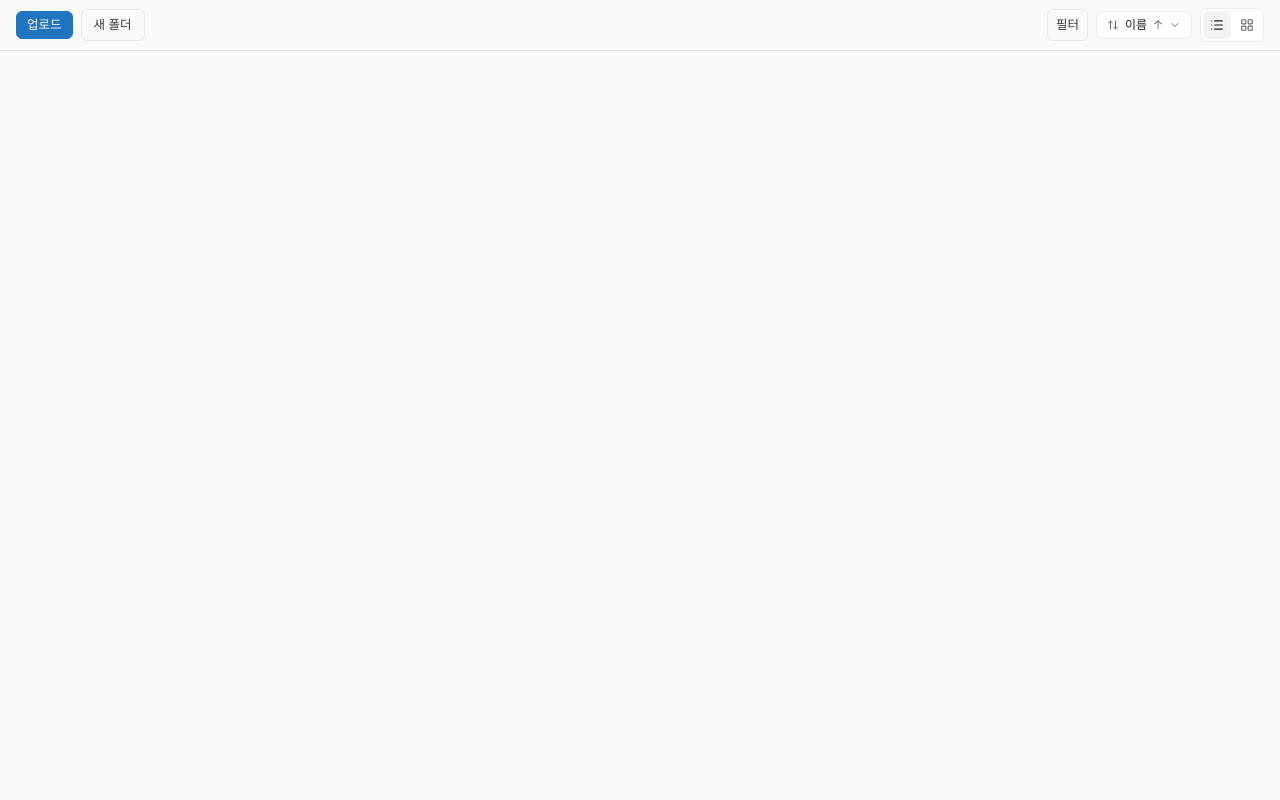
FolderToolbar › 취소로 다이얼로그 닫힌다
Click the button "새 폴더" at (112, 25), box [80,9,144,41]
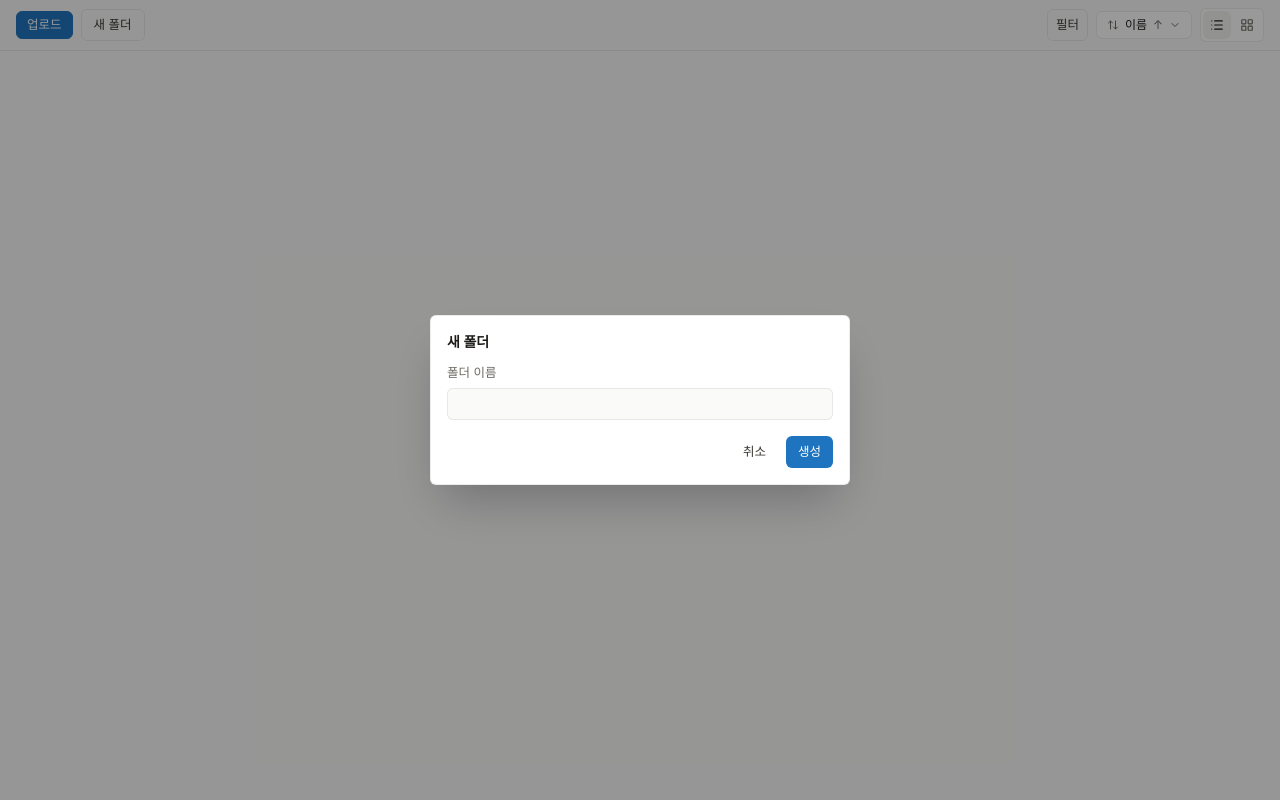
Click the button "취소" at (754, 452), box [731,436,778,468]
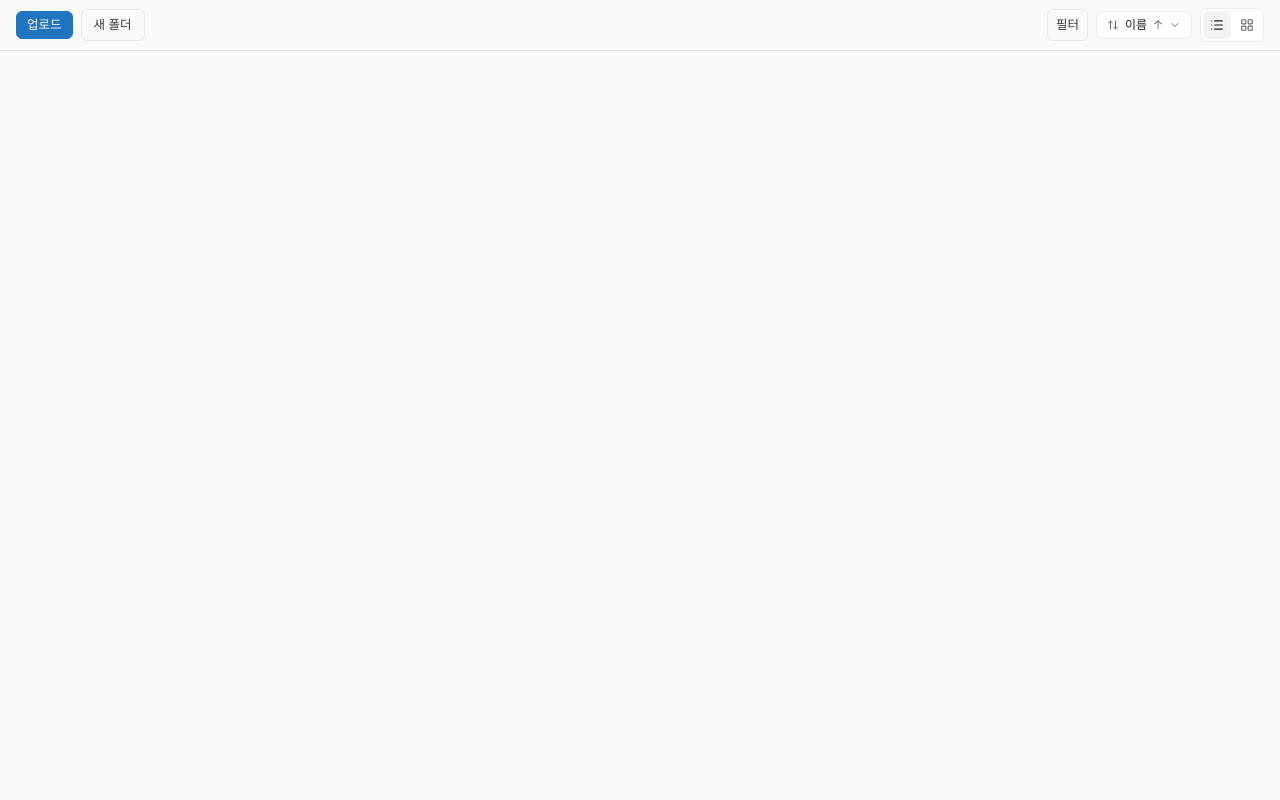
Now the dialog is gone
